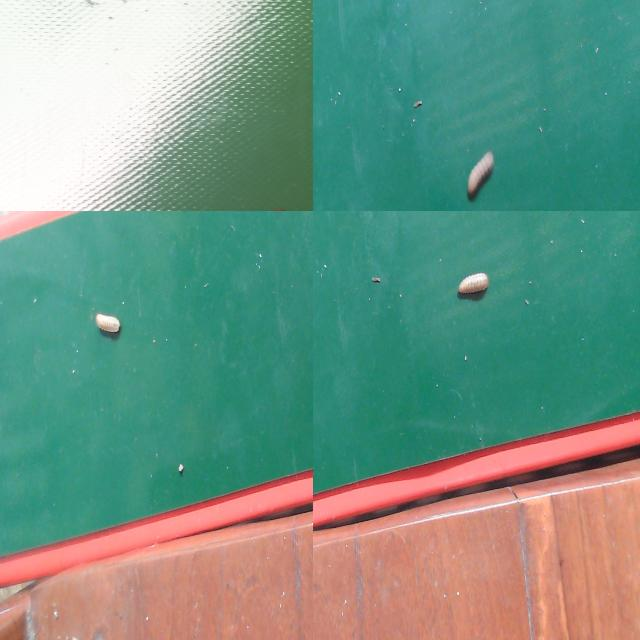Maggot: (464, 152, 494, 203), (457, 271, 489, 301), (92, 313, 120, 341)
